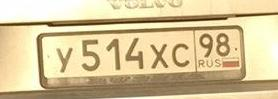license-plateSW: (34, 26, 249, 79)
